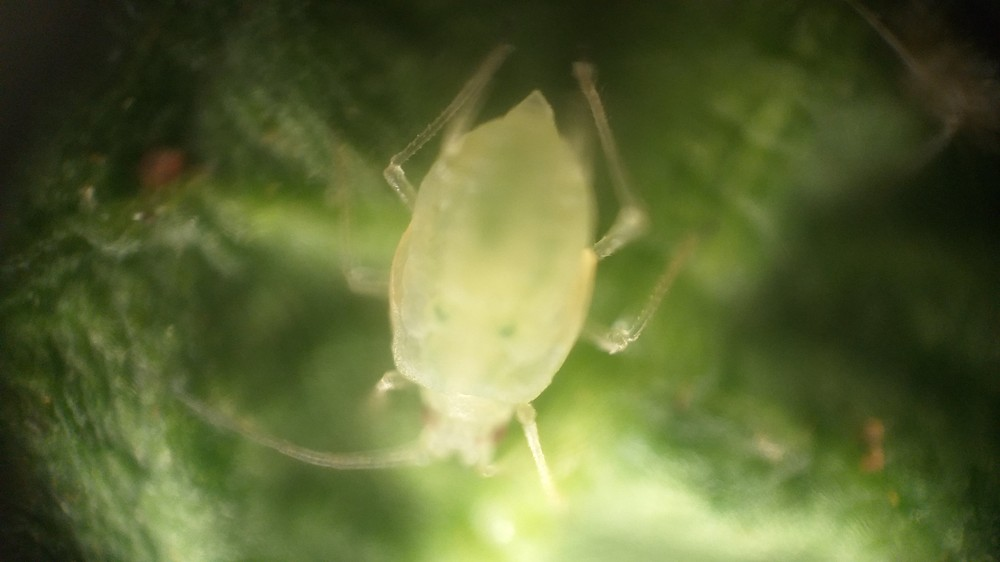Pulgon: (234, 35, 739, 553)
